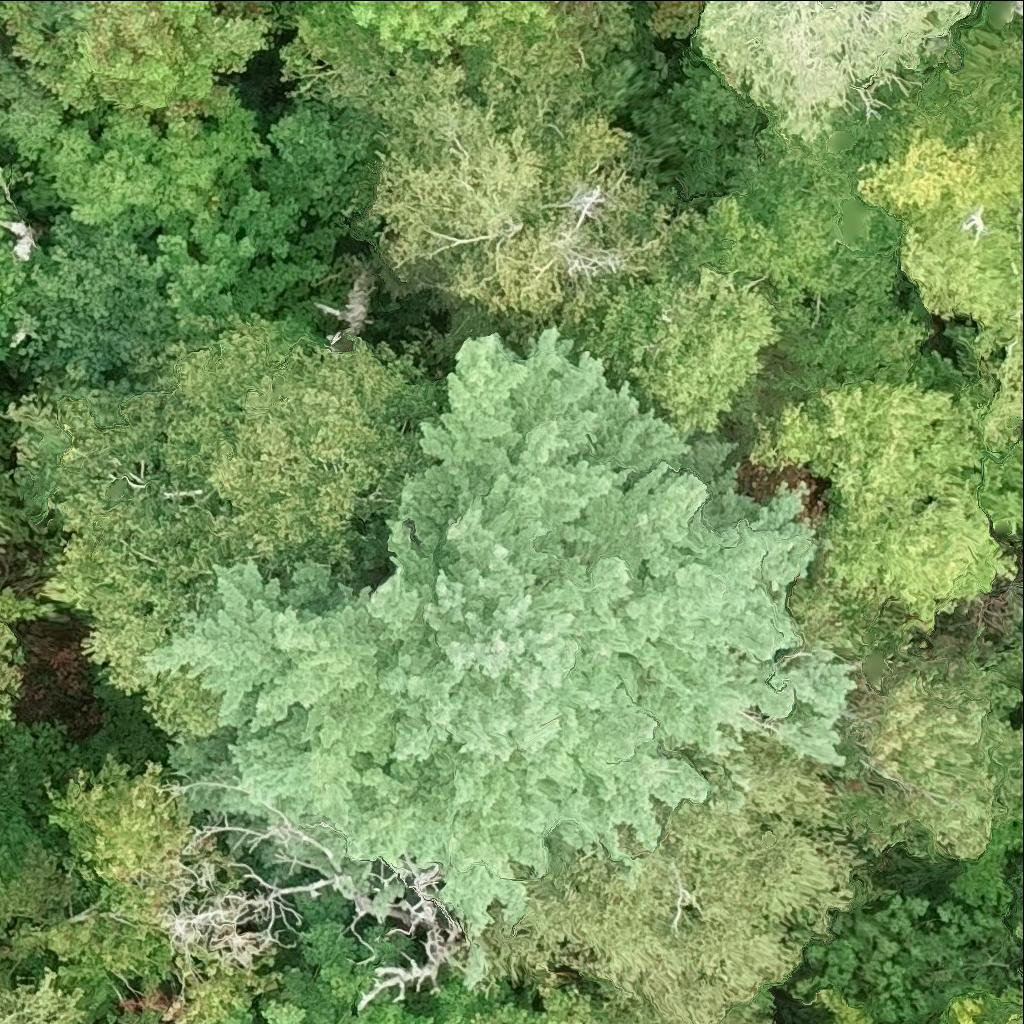crown: (143, 329, 857, 984), (281, 0, 708, 349), (45, 317, 329, 747), (480, 729, 866, 1023), (665, 124, 964, 414), (846, 38, 1023, 448), (784, 574, 1023, 858), (752, 382, 1023, 630), (0, 43, 275, 265), (208, 340, 451, 587), (159, 824, 466, 1012), (0, 834, 281, 1023), (690, 0, 981, 141), (43, 752, 236, 944), (156, 190, 359, 352), (585, 267, 783, 432), (0, 0, 276, 115), (295, 0, 604, 101), (791, 894, 1014, 1023), (12, 215, 181, 384), (296, 885, 431, 1023), (261, 97, 385, 215), (429, 976, 590, 1023), (951, 815, 1023, 917), (0, 591, 53, 726), (0, 221, 40, 363), (262, 963, 350, 1023), (0, 970, 89, 1023), (582, 985, 665, 1023), (820, 989, 874, 1023), (652, 0, 699, 37), (0, 492, 29, 539), (0, 166, 19, 220), (30, 0, 85, 17), (950, 996, 982, 1023), (271, 0, 296, 27), (217, 1006, 255, 1023), (1002, 1013, 1023, 1023), (441, 1014, 457, 1023), (1016, 715, 1023, 731), (1009, 1016, 1023, 1023), (0, 428, 5, 441), (1022, 927, 1023, 931)
